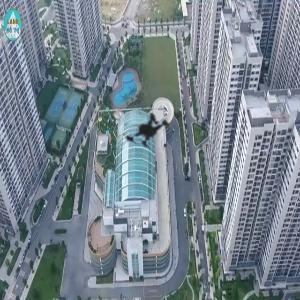drone: (105, 87, 193, 175)
